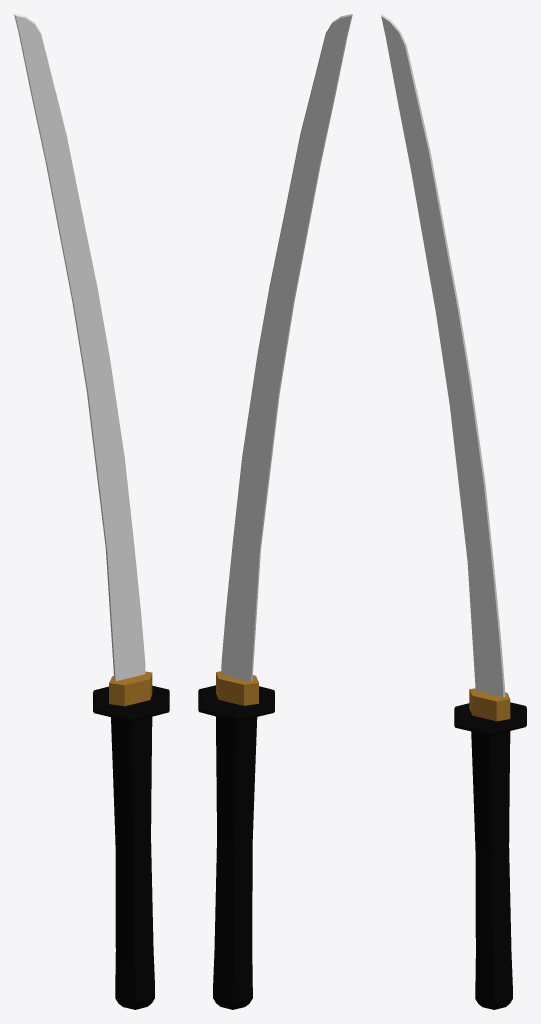
The model's file is SamuraiSword.fbx.
3 views of the same model, side by side, from view 1: azimuth 30°, elevation 25°; view 2: azimuth 150°, elevation 25°; view 3: azimuth 330°, elevation 25° (orthographic). The views are drawn at different scales.
Parts seen in each view (by area): view 1: Plane, Plane.001, Plane.002; view 2: Plane, Plane.001, Plane.002; view 3: Plane, Plane.001, Plane.002.
Part boxes in pixels (box(x1,y1,x2,y2)): Plane: box(14, 14, 145, 681); Plane.001: box(93, 685, 169, 1009); Plane.002: box(109, 671, 152, 706); Plane: box(221, 14, 352, 681); Plane.001: box(198, 685, 274, 1009); Plane.002: box(216, 671, 258, 705); Plane: box(381, 14, 505, 697); Plane.001: box(454, 702, 526, 1009); Plane.002: box(469, 688, 510, 721).
Size of the model in its own units: 94.91 by 599 by 40.78.
